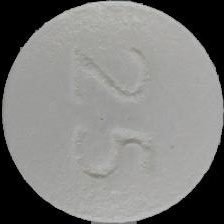35356-625: (0, 0, 224, 224)
